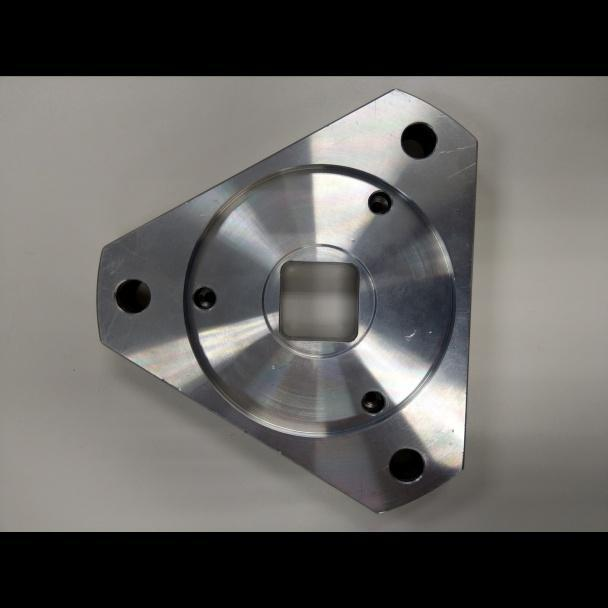hole: (398, 119, 439, 161), (386, 445, 427, 486), (112, 276, 152, 316), (358, 387, 387, 417), (366, 187, 395, 216), (190, 283, 218, 312)
